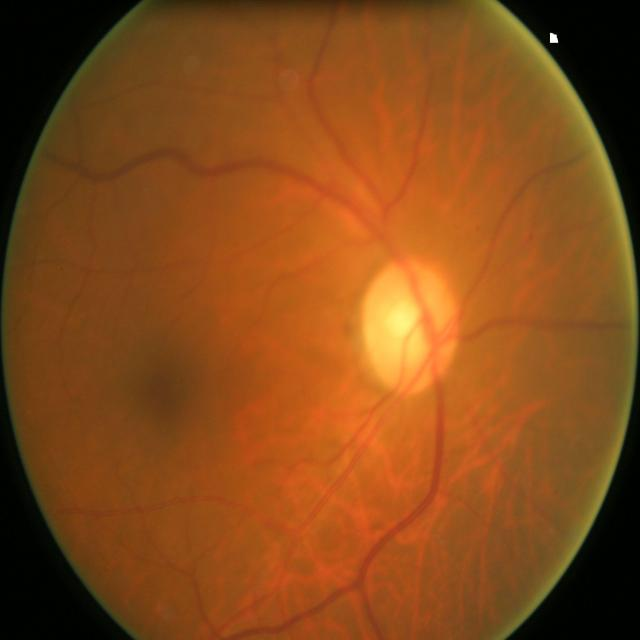OC: (384, 297, 423, 343)
OD: (363, 262, 457, 394)
